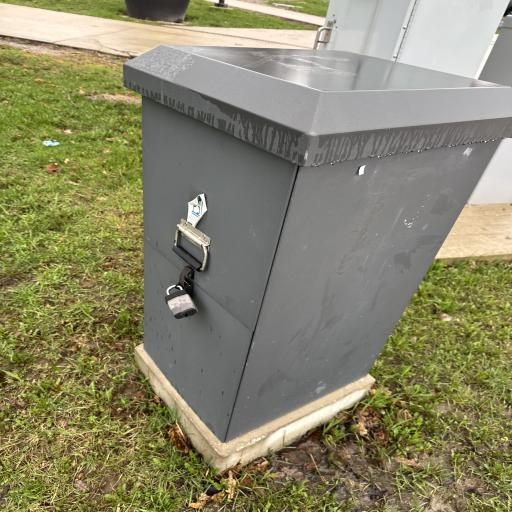Electrical Box: (123, 44, 512, 446)
